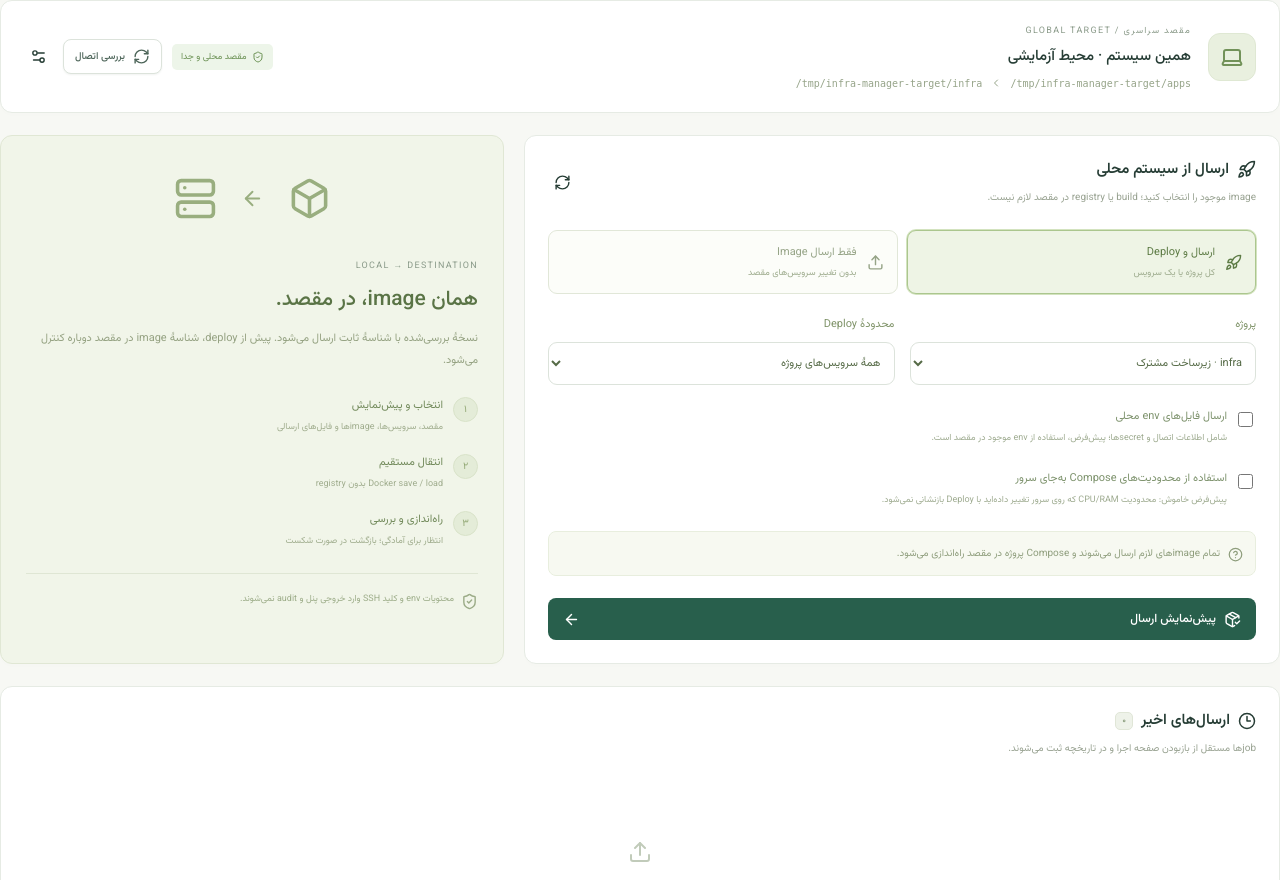
requires a reviewed preview before queuing an image-only shipment
The image size is (1280, 880).
Click the button "فقط ارسال Image بدون تغییر سرویس‌های مقصد" at (792, 252), box [548,230,898,294]
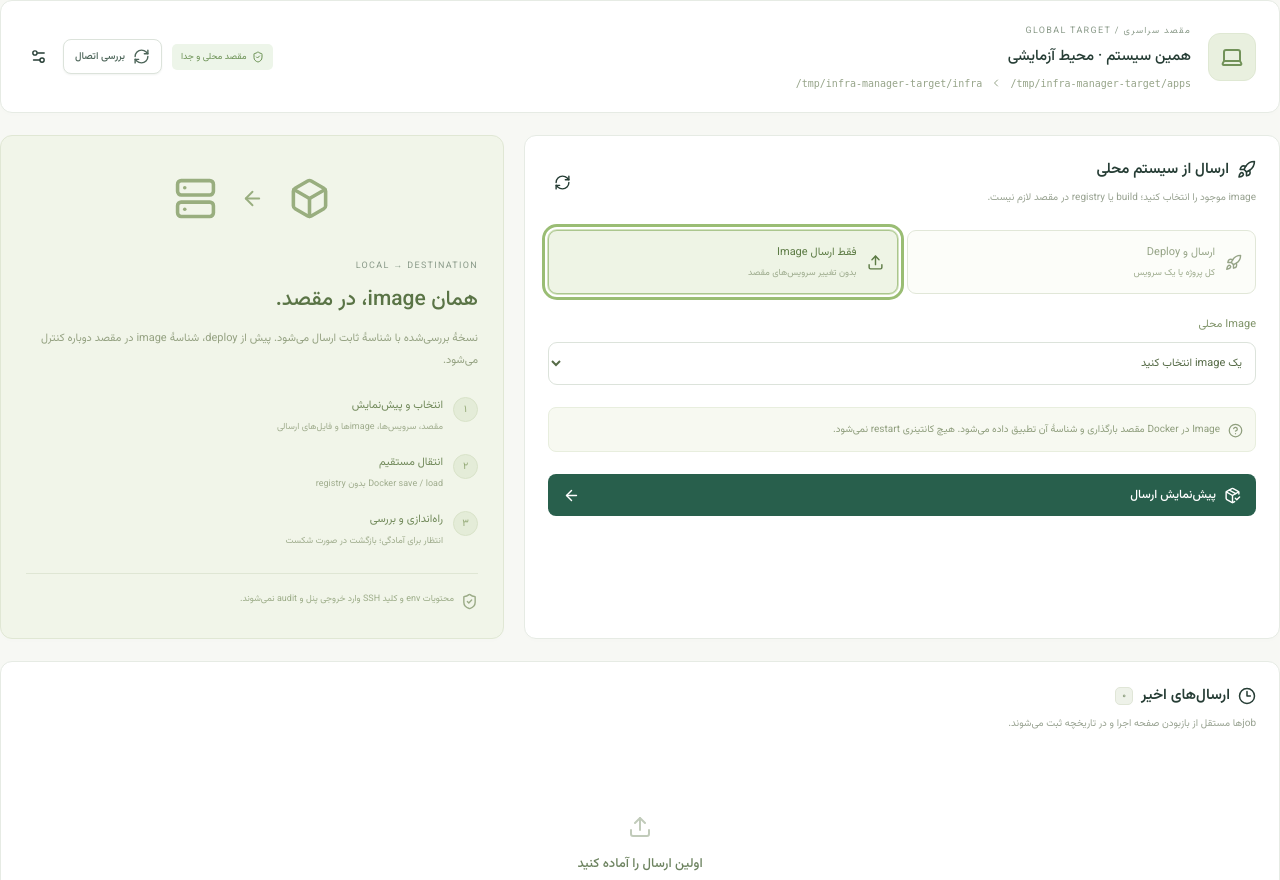
Select "alpine:3 · ۱ KiB · linux/amd64" in the dropdown labelled "Image محلی" at (902, 364), box [548,342,1256,385]
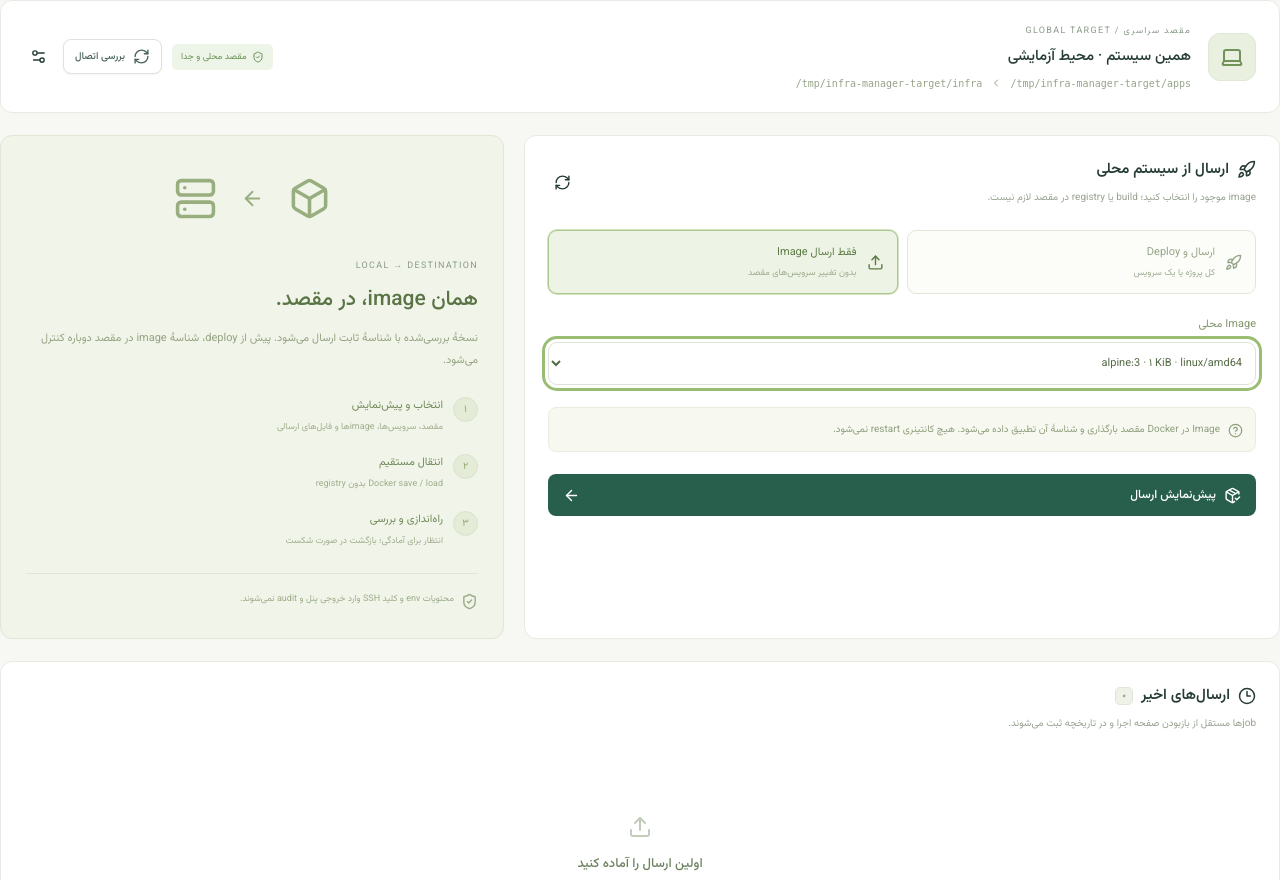
Click the button "پیش‌نمایش ارسال" at (1173, 495), box [548,474,1256,516]
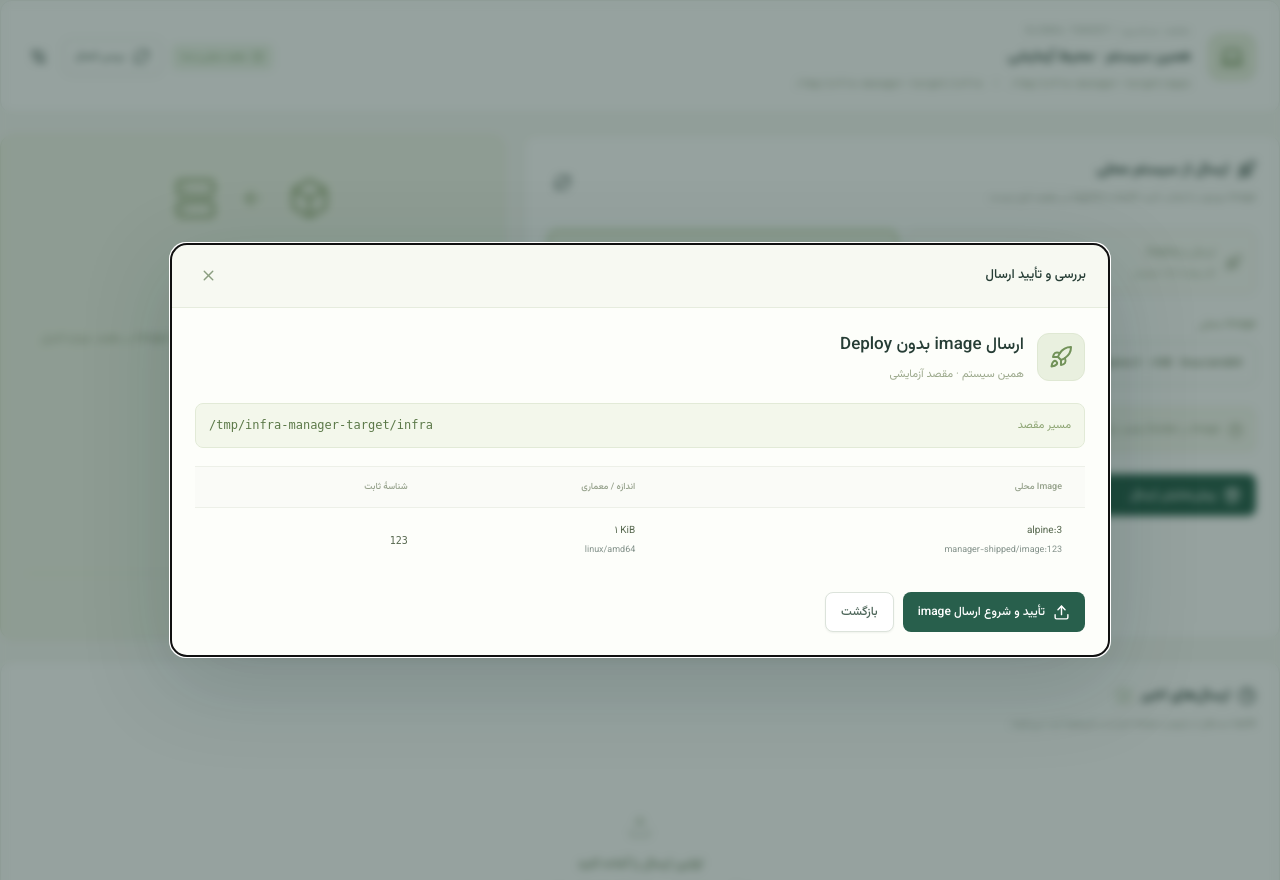
expect the dialog "بررسی و تأیید ارسال" is shown: met, box [170,243,1110,657]
Click the button "تأیید و شروع ارسال image" at (994, 612), box [903,592,1085,632]
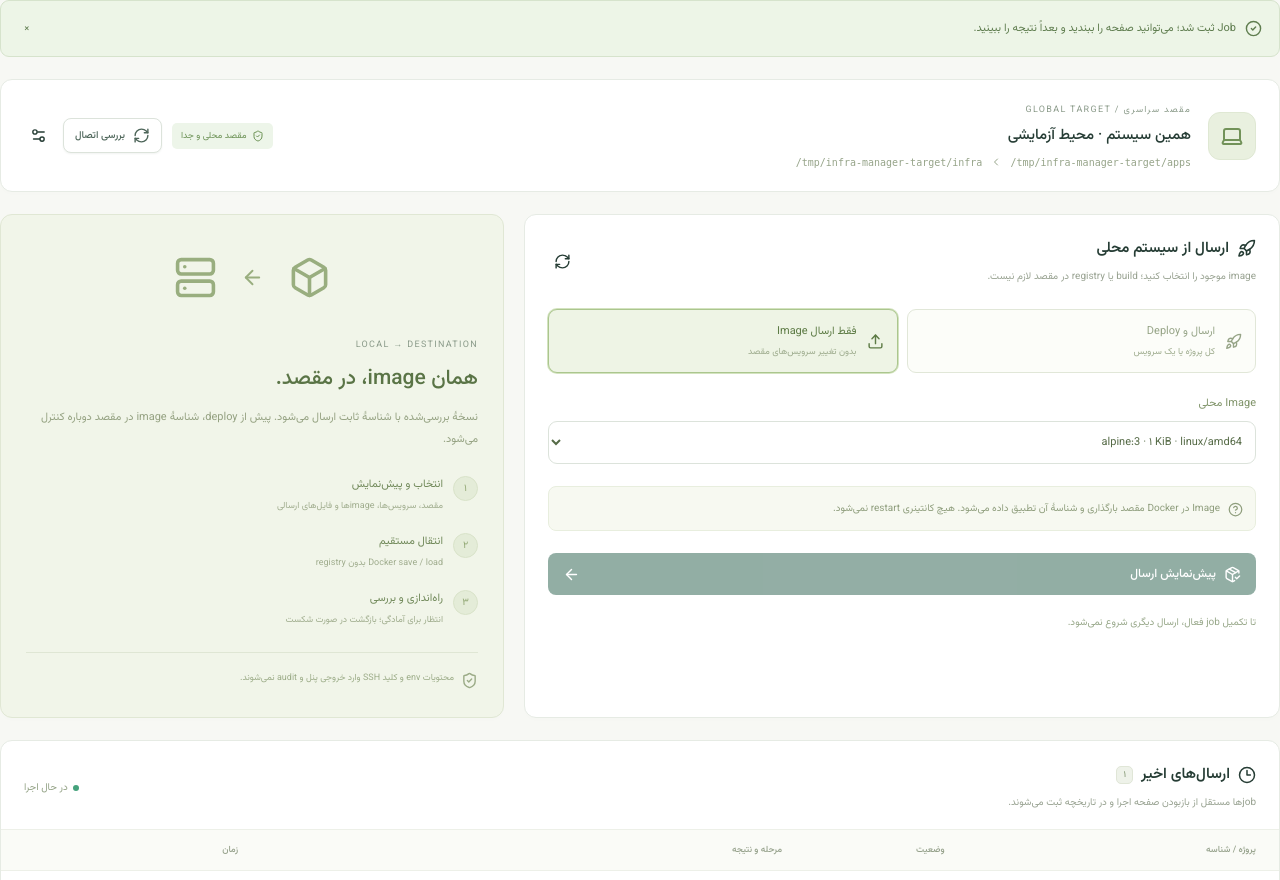
expect the text "Job ثبت شد؛ می‌توانید صفحه را ببندید و بعداً نتیجه را ببینید." is shown: met, box [974,20,1236,37]
